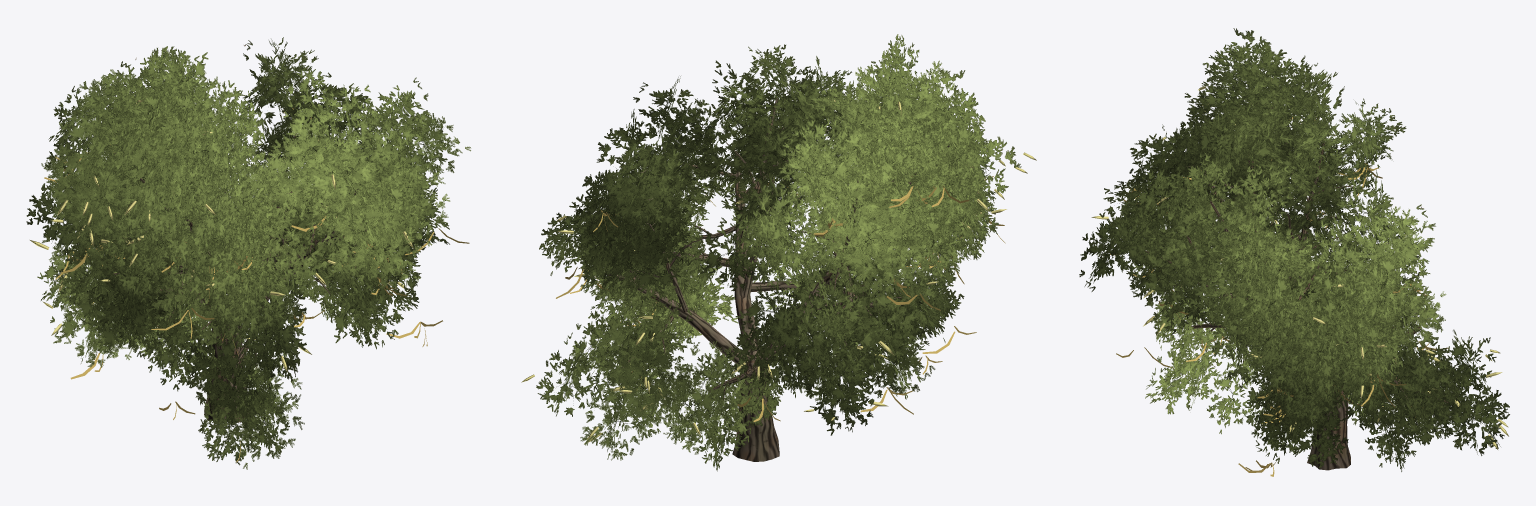
The model's file is young-c.lod0.glb.
3 renders of one model, left to right at view 1: azimuth 30°, elevation 25°; view 2: azimuth 150°, elevation 25°; view 3: azimuth 270°, elevation 25°, orthographic. The views are drawn at different scales.
Parts seen in each view (by area): view 1: foliage, fruit, bark, flowers; view 2: foliage, bark, fruit, flowers; view 3: foliage, bark, fruit, flowers.
Boxes of the visible parts, x1,y1,x2,y2 form: foliage: (26,37,470,469); fruit: (44,108,469,462); bark: (113,109,366,422); flowers: (30,95,413,372); foliage: (536,34,1021,471); bark: (607,98,949,461); fruit: (556,176,1005,421); flowers: (521,98,1036,443); foliage: (1079,28,1509,471); bark: (1145,98,1448,470); fruit: (1110,117,1448,476); flowers: (1091,77,1508,449).
Size of the model in its own units: 3.67 by 3.5 by 3.6.
Materials: 5 (2 with a texture image).
